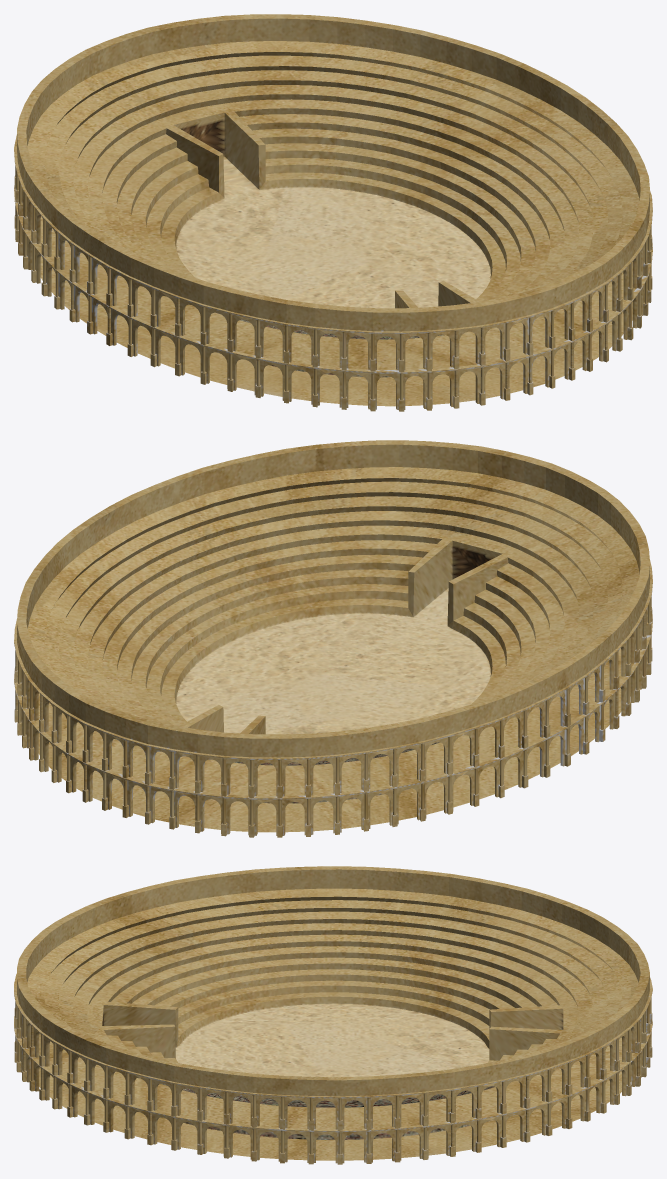
File: anfiteatro.fbx
3 renders of one model, top to bottom at view 1: azimuth 30°, elevation 25°; view 2: azimuth 150°, elevation 25°; view 3: azimuth 270°, elevation 25°, orthographic. The views are drawn at different scales.
Parts seen in each view (by area): view 1: amphitheater_0; view 2: amphitheater_0; view 3: amphitheater_0.
Part boxes in pixels (box(x1,y1,x2,y2)): amphitheater_0: box(14, 14, 652, 411); amphitheater_0: box(14, 440, 652, 837); amphitheater_0: box(14, 866, 652, 1164).
Size of the model in its own units: 288 by 51.99 by 360.
Materials: 1 (1 with a texture image).
